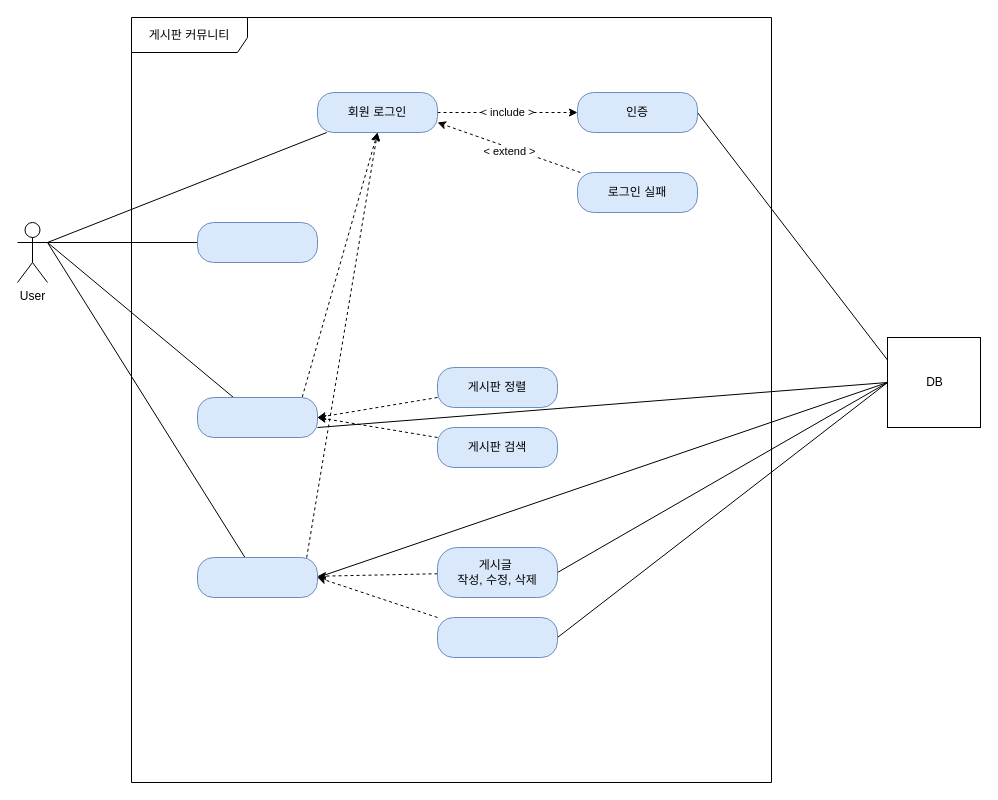
The diagram is 998 pixels wide and 800 high, and some of its shapes have lost their labels. The centre of each missing label's shape, as x and y in pixels:
게시글 보기: point 257,577
게시판 보기: point 257,417
댓글 작성, 수정, 삭제: point 497,637
회원 가입: point 257,242
